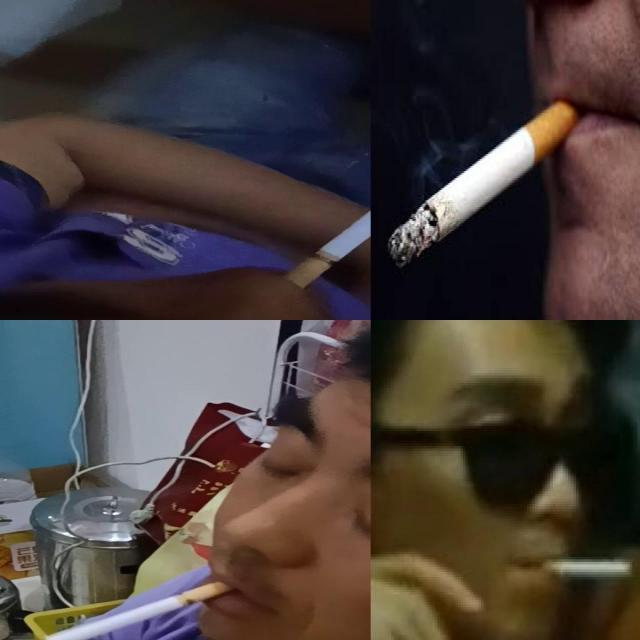cigarette: (388, 100, 578, 270), (46, 582, 236, 640), (287, 207, 370, 290), (532, 558, 634, 582)
